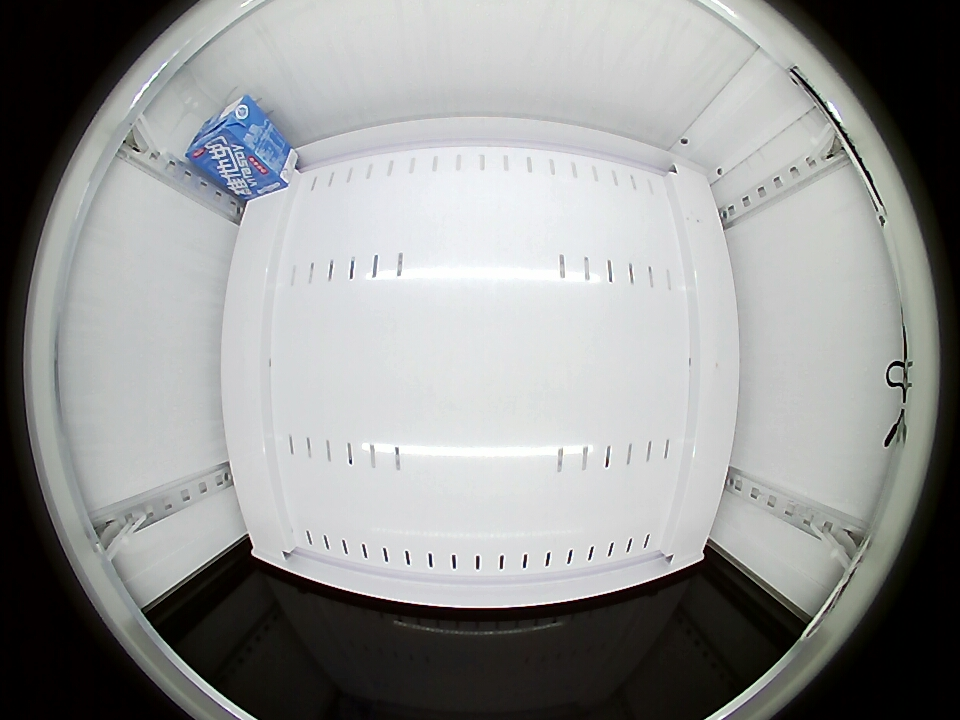weitanai: (185, 94, 268, 171)
